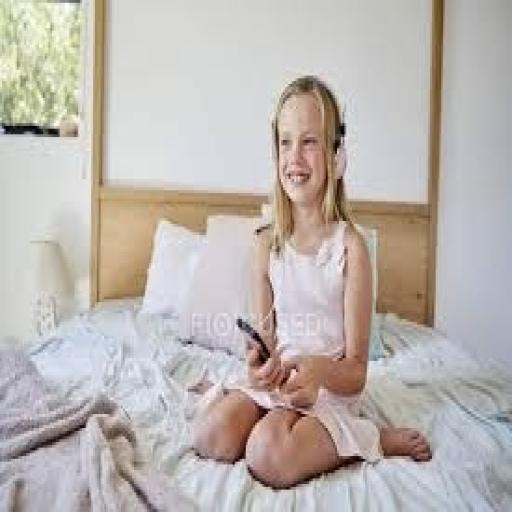listening_to_music: (188, 73, 434, 492)
